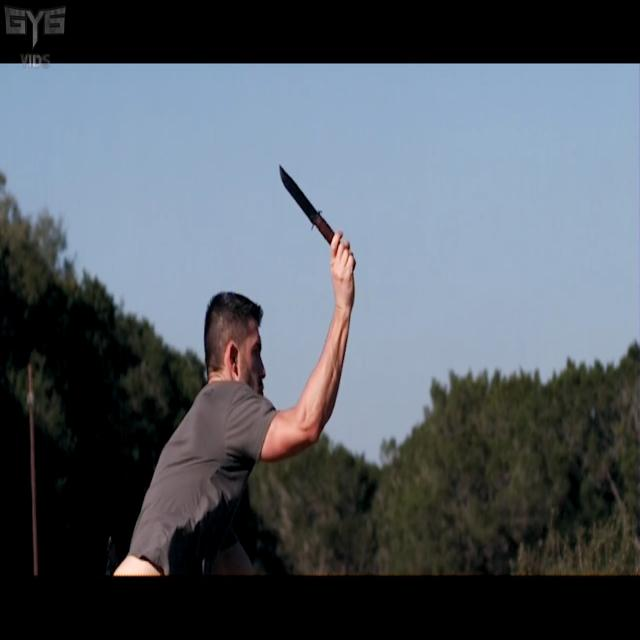knife: (279, 156, 335, 247)
